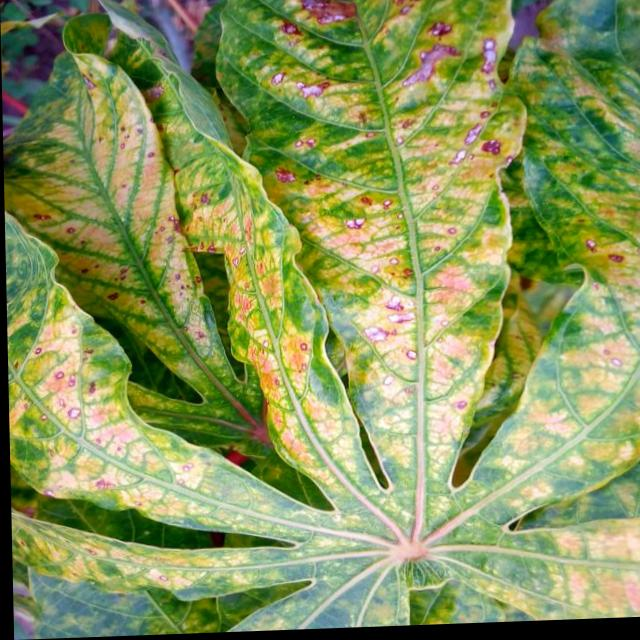Mosaico: (0, 28, 604, 592)
